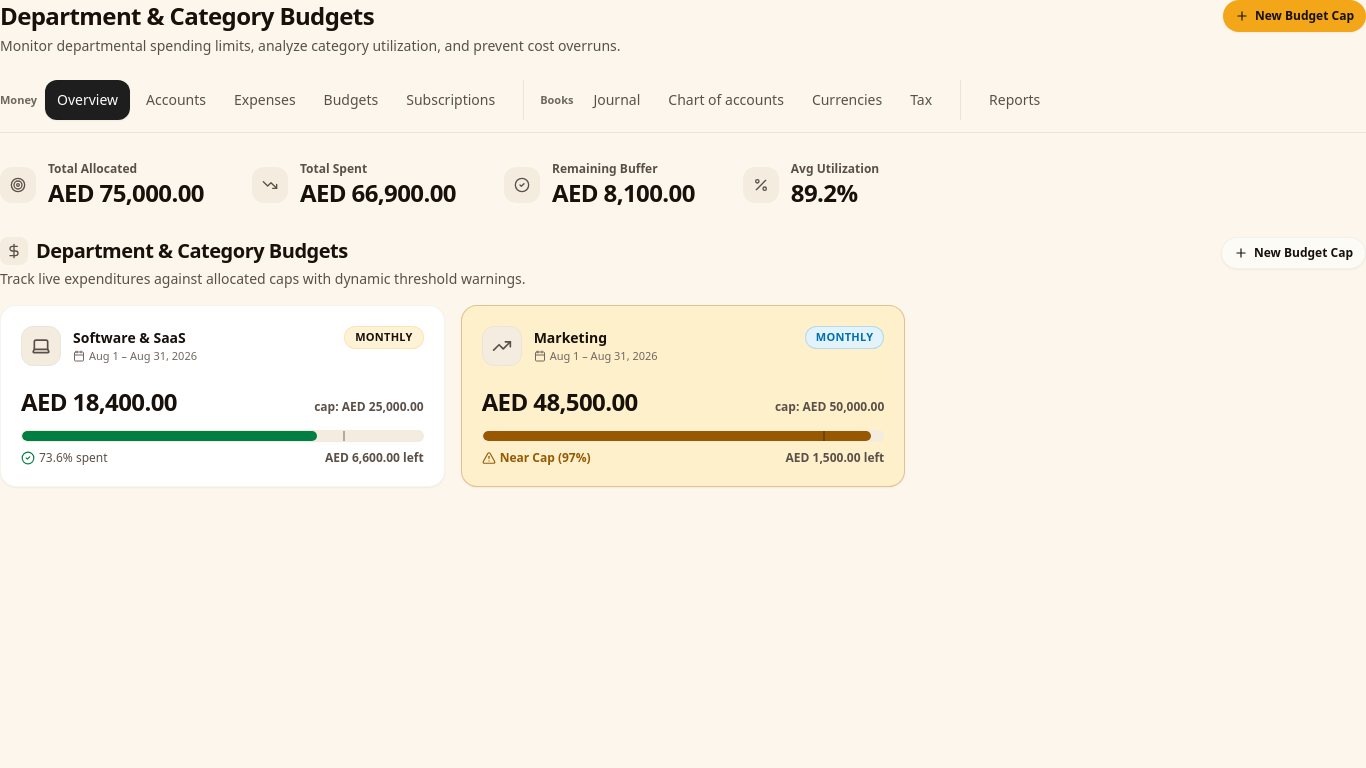
Scenario: Finance Routes & Views Suite › BudgetsView (/finance/budgets) › opens create budget modal when clicking new budget cap
Click the button with test id "create-budget-btn" at (1294, 16), box x1=1223 y1=0 x2=1365 y2=32
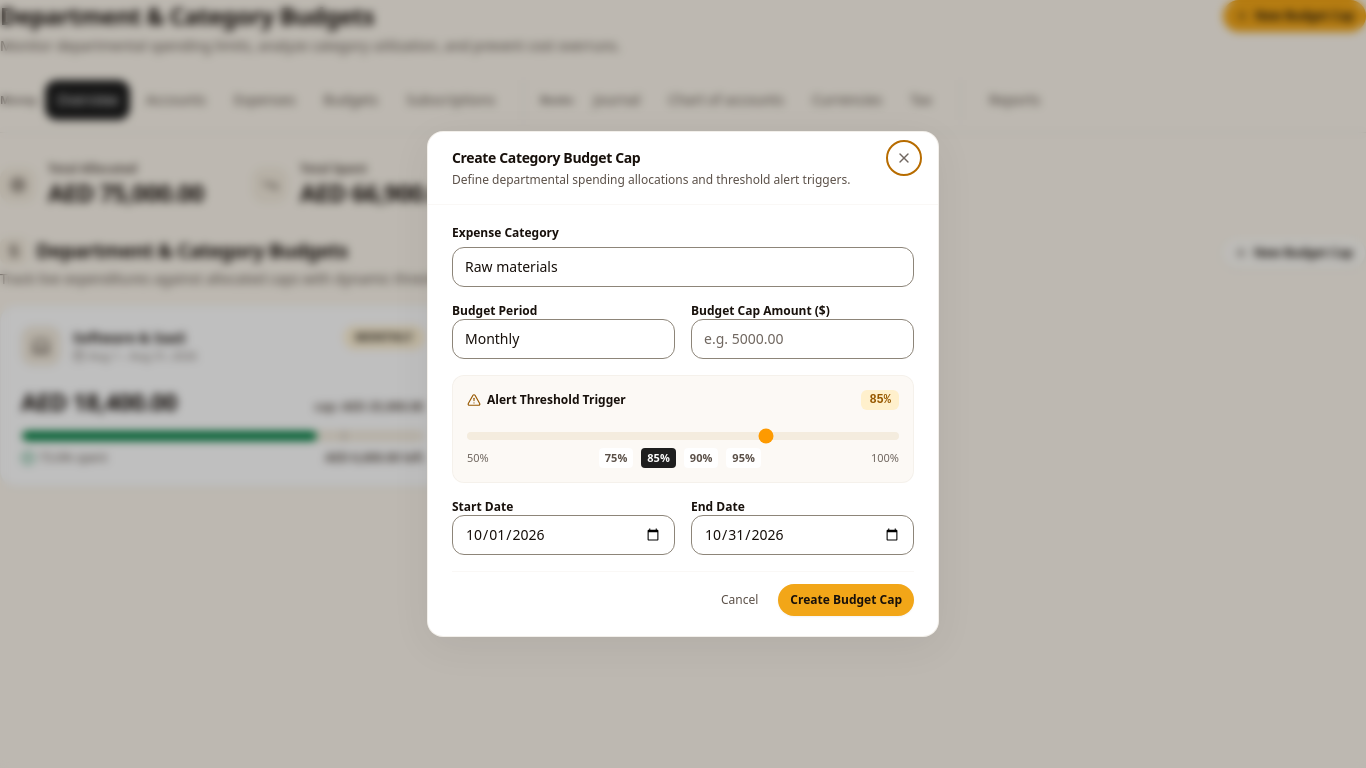
Now the heading "Create Category Budget Cap" is shown, box x1=452 y1=148 x2=640 y2=167
